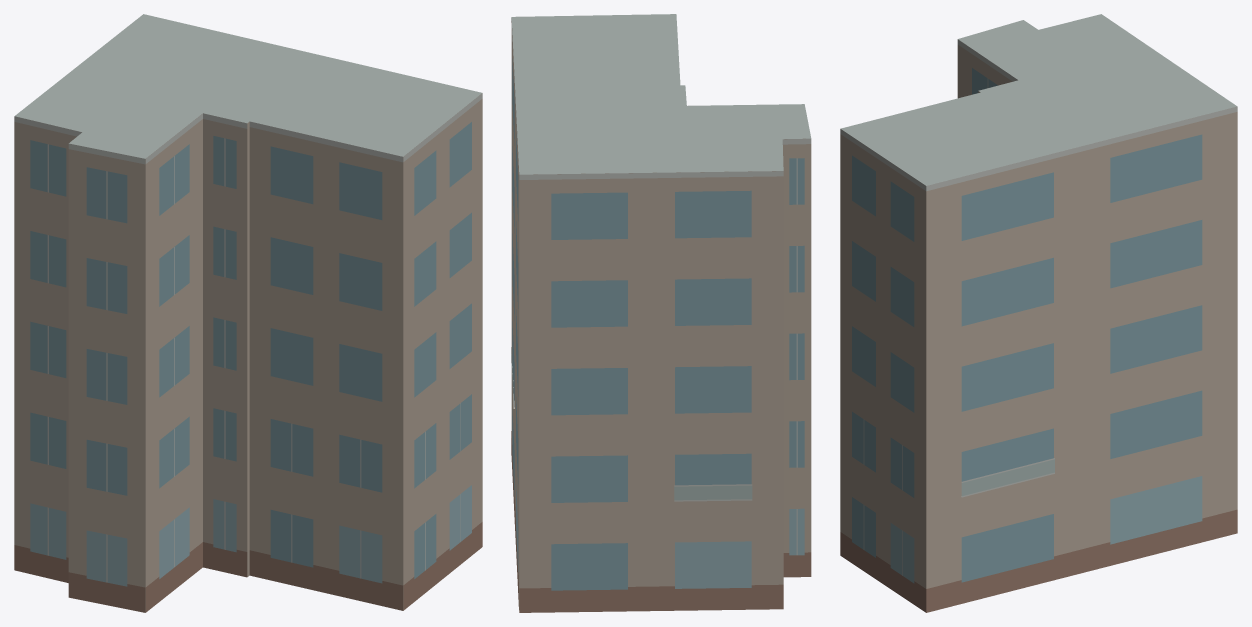
File: survey-upis-32917062.glb
3 views of the same model, side by side, from view 1: azimuth 30°, elevation 25°; view 2: azimuth 150°, elevation 25°; view 3: azimuth 270°, elevation 25° (orthographic). The views are drawn at different scales.
Visible parts, largest first — view 1: survey-upis-32917062.tmp; view 2: survey-upis-32917062.tmp; view 3: survey-upis-32917062.tmp.
Part boxes in pixels (x1,y1,x2,y2): survey-upis-32917062.tmp: [14, 14, 482, 612]; survey-upis-32917062.tmp: [511, 14, 811, 612]; survey-upis-32917062.tmp: [840, 14, 1237, 612].
Size of the model in its own units: 17.03 by 19.7 by 16.62.
